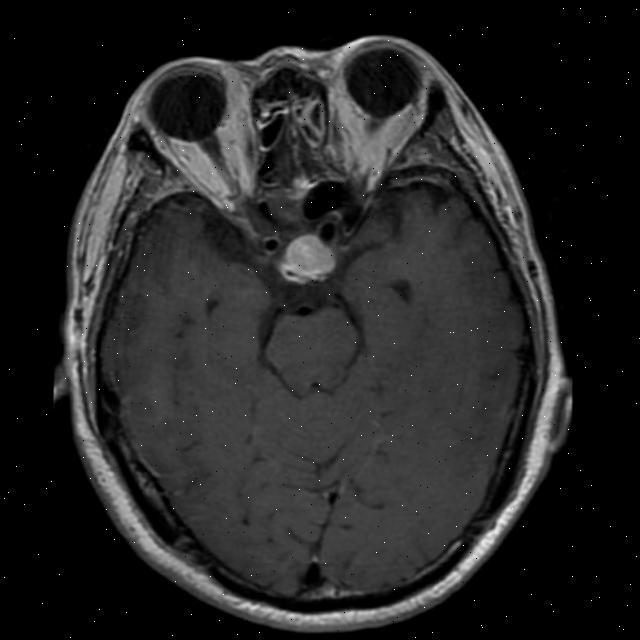Pituitary: (282, 232, 338, 279)
